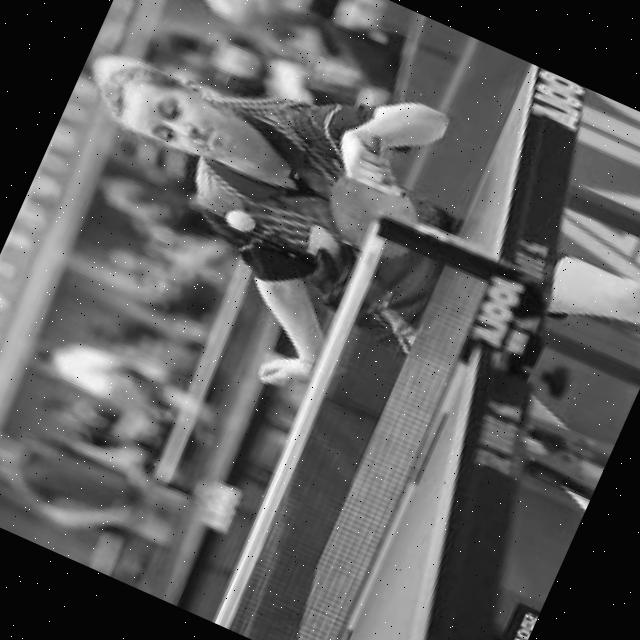ping-pong-ball: (219, 204, 258, 236)
